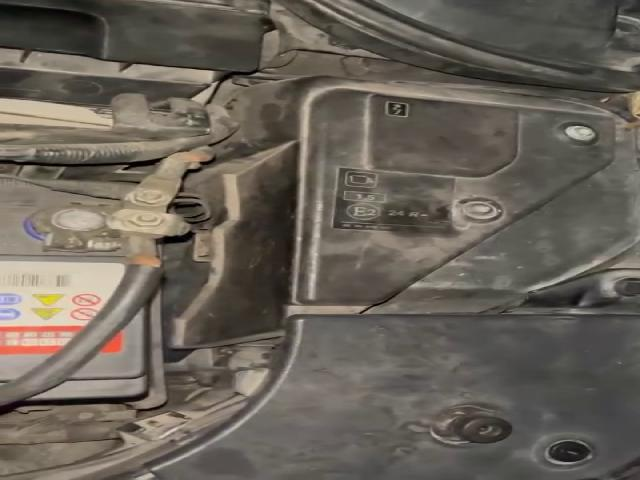accumulator: (1, 175, 169, 407)
fuse_box: (163, 74, 635, 343)
